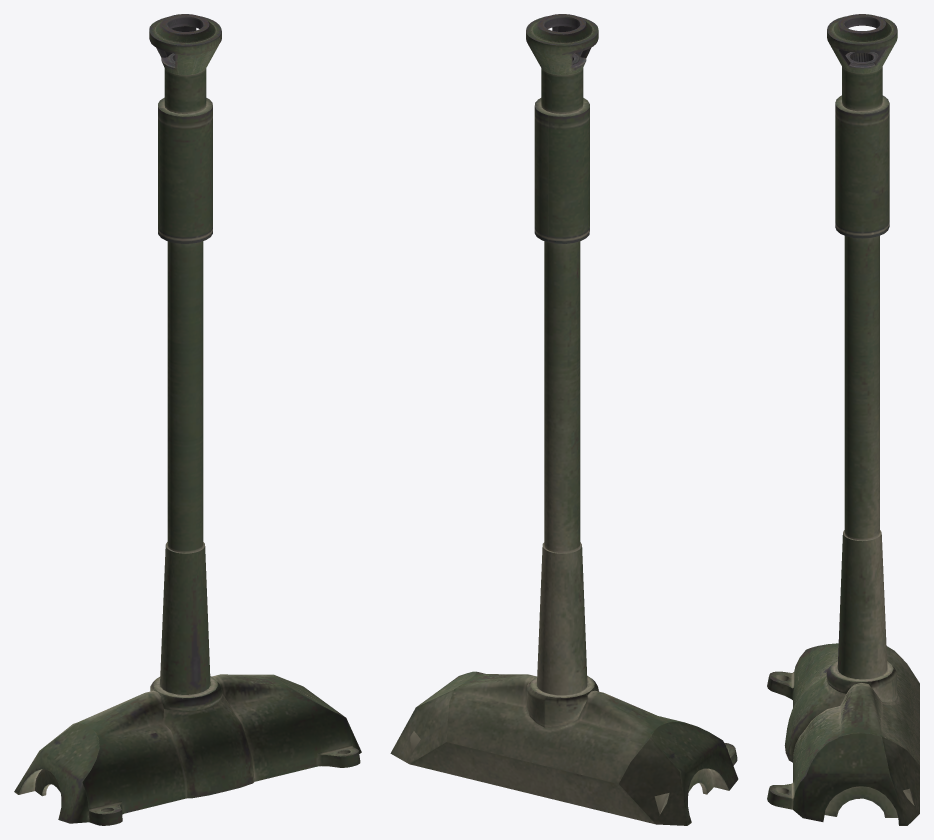
File: Gun_04.glb
The picture shows the model from 3 angles, left to right: view 1: azimuth 30°, elevation 25°; view 2: azimuth 150°, elevation 25°; view 3: azimuth 270°, elevation 25°; orthographic projection. The views are drawn at different scales.
Parts seen in each view (by area): view 1: set_0_group_0; view 2: set_0_group_0; view 3: set_0_group_0.
Boxes of the visible parts, left/top/right/bottom form: set_0_group_0: left=14, top=14, right=361, bottom=825; set_0_group_0: left=390, top=14, right=738, bottom=825; set_0_group_0: left=767, top=14, right=919, bottom=825.
Bounding box in the file's own units: 1.45 × 3.49 × 0.6615.
1 material, 1 textured.
